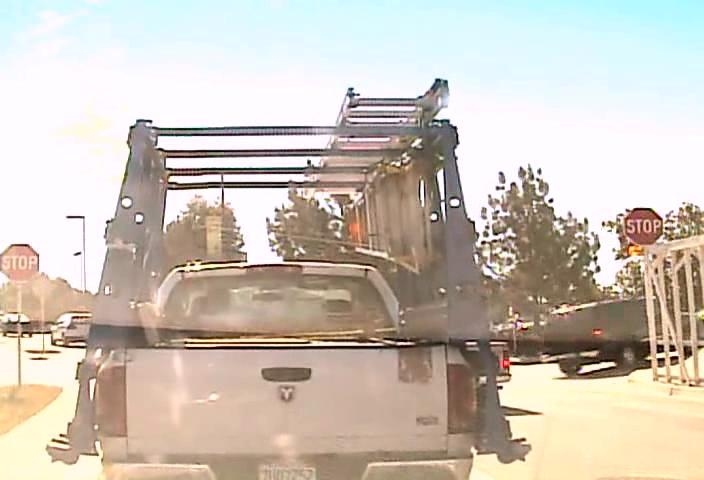stop: (623, 207, 664, 246)
